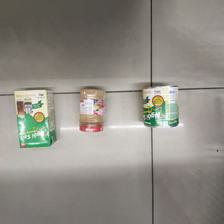Hao_hao: (77, 86, 104, 134)
NSPN_Hop: (15, 86, 56, 148)
NSPN_Lon: (140, 83, 182, 130)
